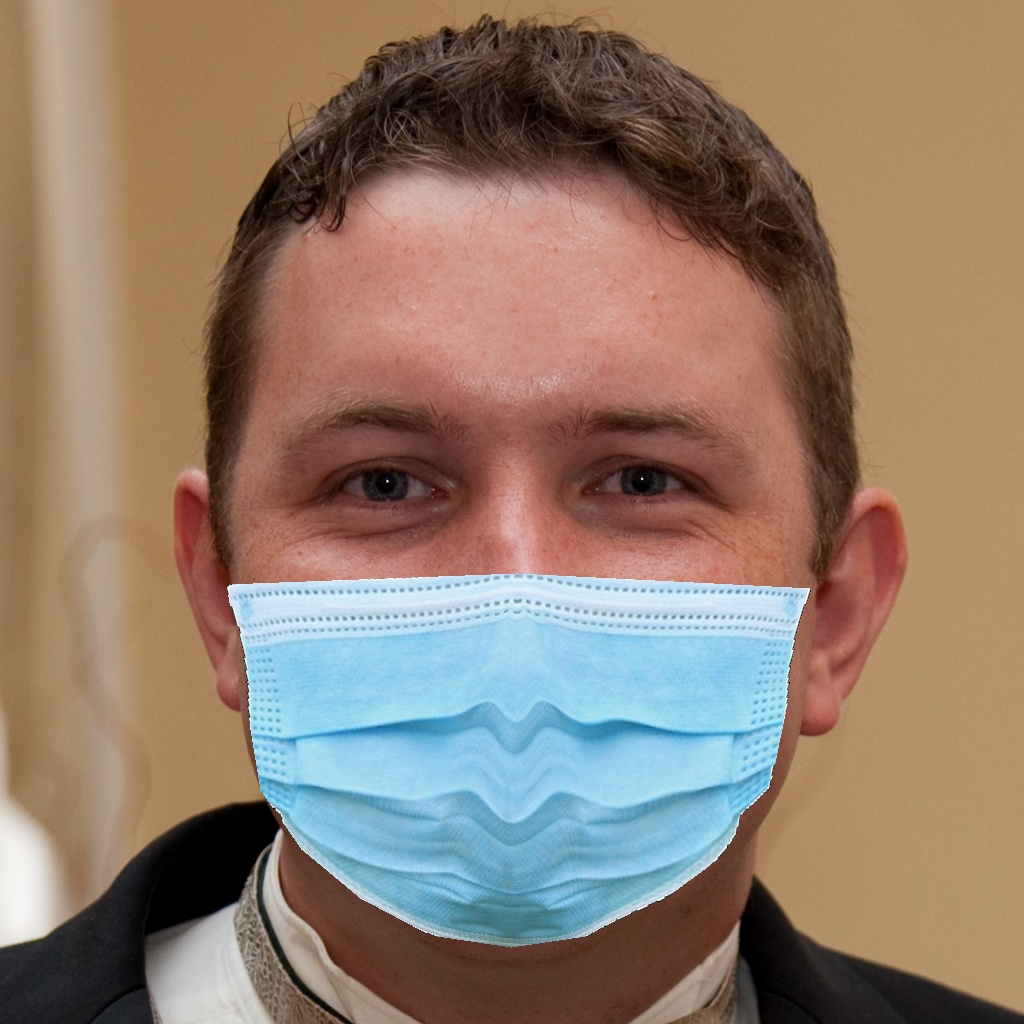Mask: (227, 346, 801, 952)
